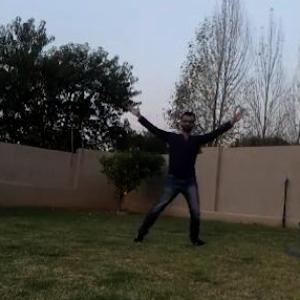takeoff: (115, 99, 233, 248)
